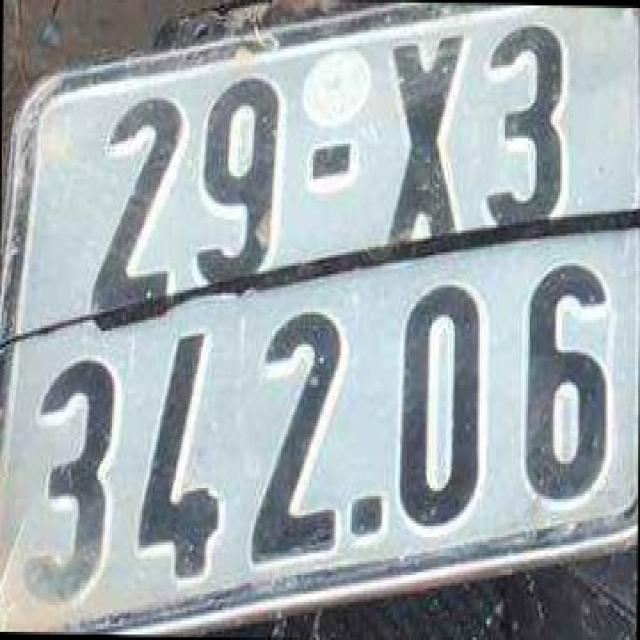0: (388, 271, 492, 537)
2: (240, 296, 352, 572), (78, 84, 188, 309)
3: (27, 344, 121, 596), (478, 16, 571, 222)
4: (128, 317, 228, 591)
6: (514, 255, 617, 507)
9: (188, 68, 286, 282)
X: (382, 46, 470, 231)
